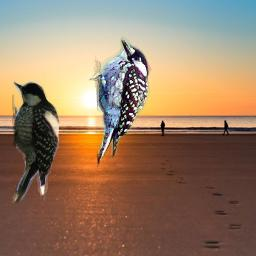Woodpecker: (77, 33, 158, 173), (12, 81, 60, 203)
